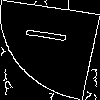I: (25, 25, 79, 47)
